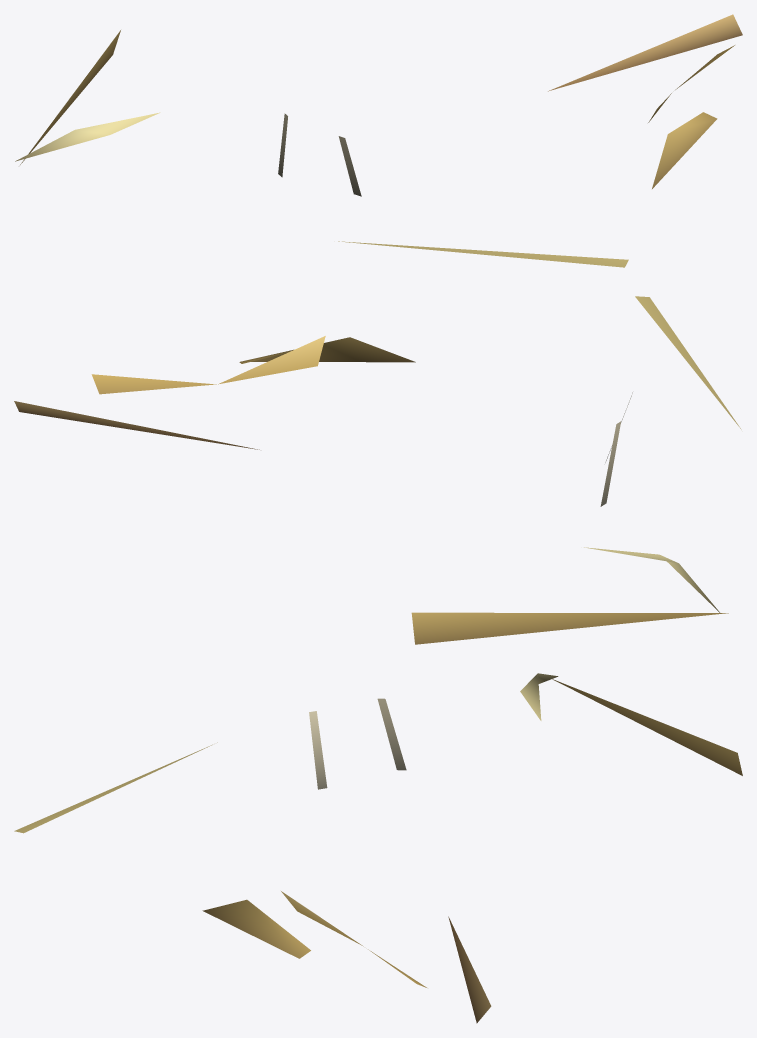
File: BrokenHayPile_LOD3.glb
3 renders of one model, top to bottom at view 1: azimuth 30°, elevation 25°; view 2: azimuth 150°, elevation 25°; view 3: azimuth 270°, elevation 25°, orthographic. The views are drawn at different scales.
Visible parts, largest first — view 1: BrokenHayPile_LOD3; view 2: BrokenHayPile_LOD3; view 3: BrokenHayPile_LOD3.
Part boxes in pixels (x1,y1,x2,y2): BrokenHayPile_LOD3: (15, 14, 742, 267); BrokenHayPile_LOD3: (14, 296, 741, 644); BrokenHayPile_LOD3: (14, 673, 742, 1023).
Size of the model in its own units: 0.2694 by 0.0293 by 0.2464.
